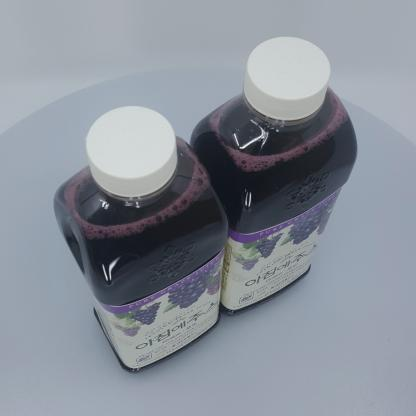------------950ML: (188, 36, 358, 317), (53, 105, 228, 374)
